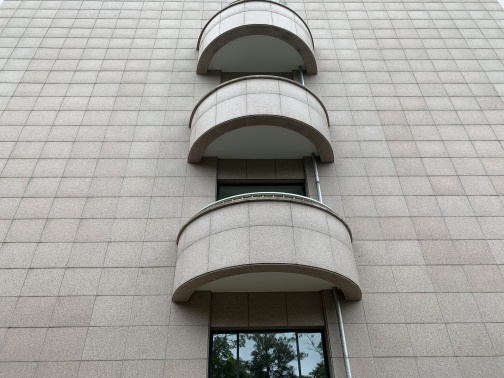Natural Science2: (143, 8, 394, 356)
